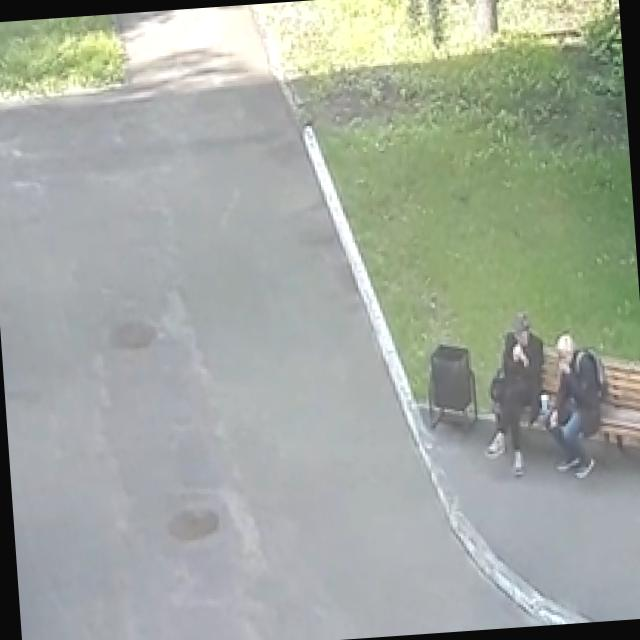person: (476, 312, 554, 476), (539, 330, 614, 482)
